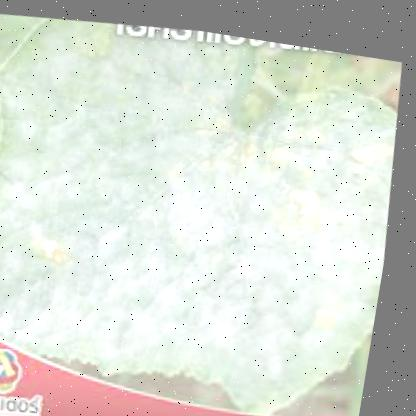PowderyMildew: (15, 114, 317, 354), (29, 55, 239, 236), (190, 130, 381, 328)
